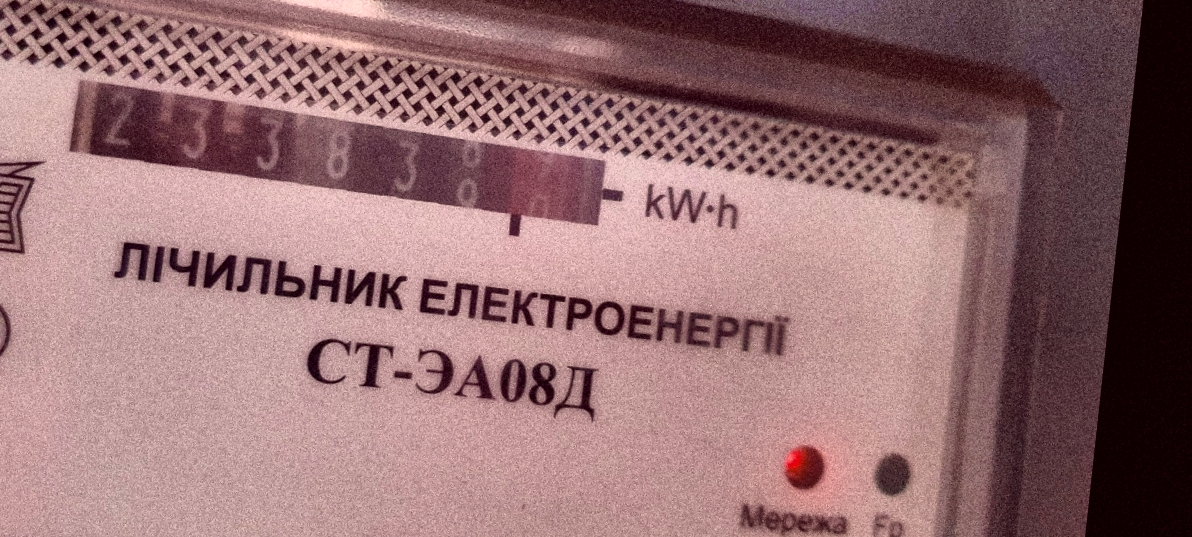0: (524, 188, 553, 224)
2: (98, 85, 142, 150)
3: (246, 109, 289, 176), (179, 100, 212, 161), (390, 134, 424, 193)
8: (318, 121, 358, 183), (458, 135, 487, 169)
9: (526, 144, 560, 186), (452, 173, 484, 212)
screen: (34, 53, 640, 273)
